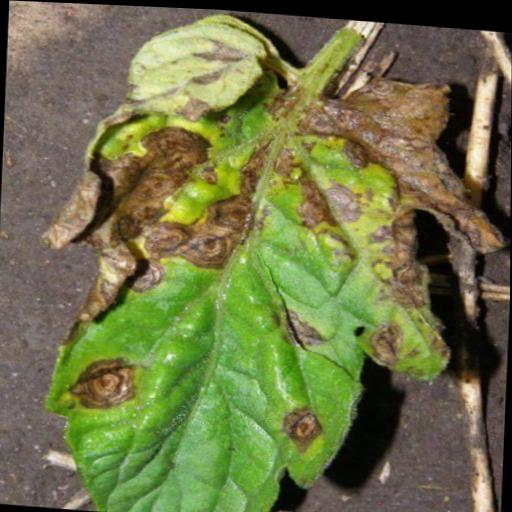Early Blight: (31, 1, 502, 512)
